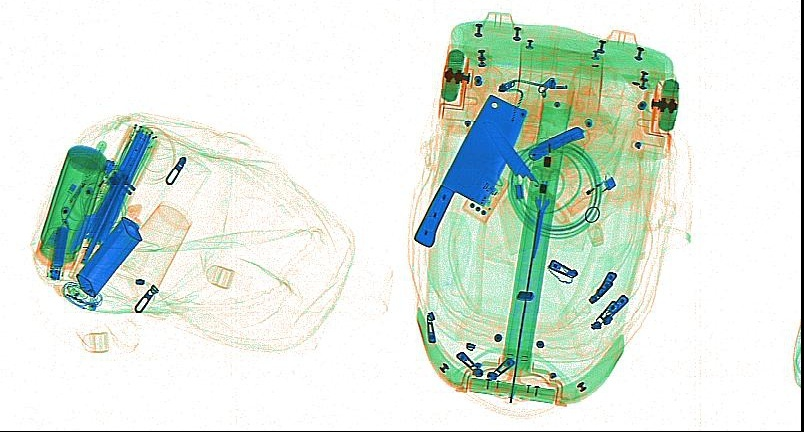knife: (411, 92, 528, 247), (482, 121, 572, 224), (527, 125, 586, 160)
scissors: (525, 164, 566, 259)
zippooil: (75, 216, 142, 297)
